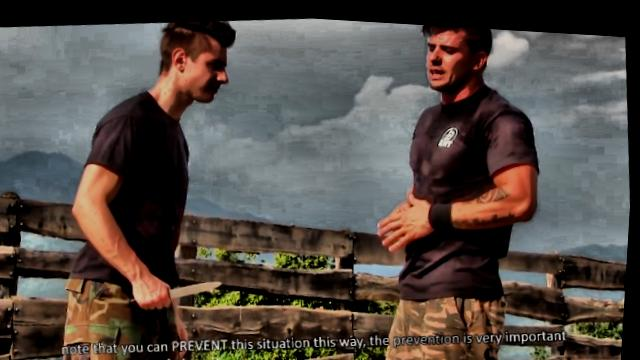knife: (126, 268, 234, 317)
